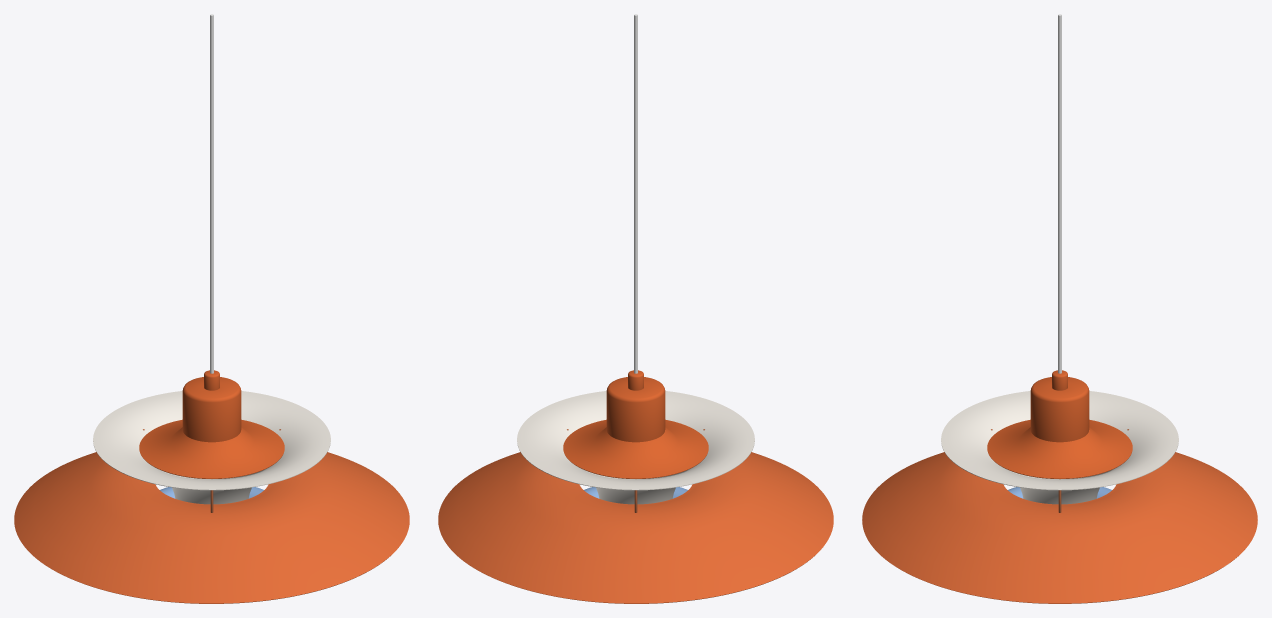
3 renders of one model, left to right at view 1: azimuth 30°, elevation 25°; view 2: azimuth 150°, elevation 25°; view 3: azimuth 270°, elevation 25°, orthographic.
Visible parts, largest first — view 1: paralume_grande, paralume_superiore, attacco, cavo; view 2: paralume_grande, paralume_superiore, attacco, cavo; view 3: paralume_grande, paralume_superiore, attacco, cavo.
Part boxes in pixels (left/top/right/bottom): paralume_grande: left=14, top=452, right=409, bottom=603; paralume_superiore: left=93, top=391, right=330, bottom=504; attacco: left=139, top=370, right=284, bottom=478; cavo: left=210, top=14, right=213, bottom=373; paralume_grande: left=438, top=452, right=833, bottom=603; paralume_superiore: left=517, top=391, right=754, bottom=504; attacco: left=563, top=370, right=708, bottom=478; cavo: left=634, top=14, right=637, bottom=373; paralume_grande: left=862, top=452, right=1257, bottom=603; paralume_superiore: left=941, top=391, right=1178, bottom=504; attacco: left=987, top=370, right=1132, bottom=478; cavo: left=1058, top=14, right=1061, bottom=373.
Size of the model in its own units: 0.5004 by 0.7851 by 0.5004.
